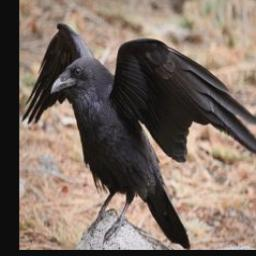Crow: (21, 20, 256, 246)
